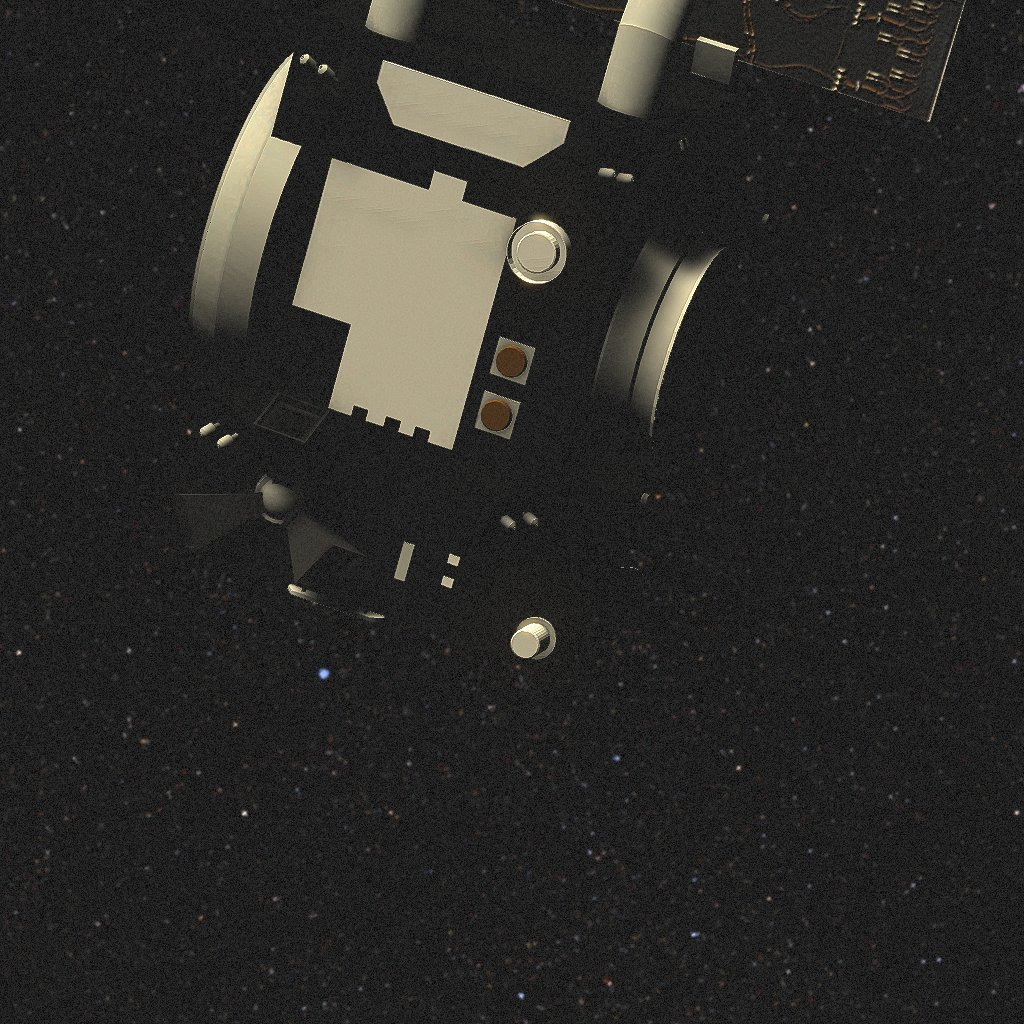proba_3_csc: (163, 0, 967, 664)
